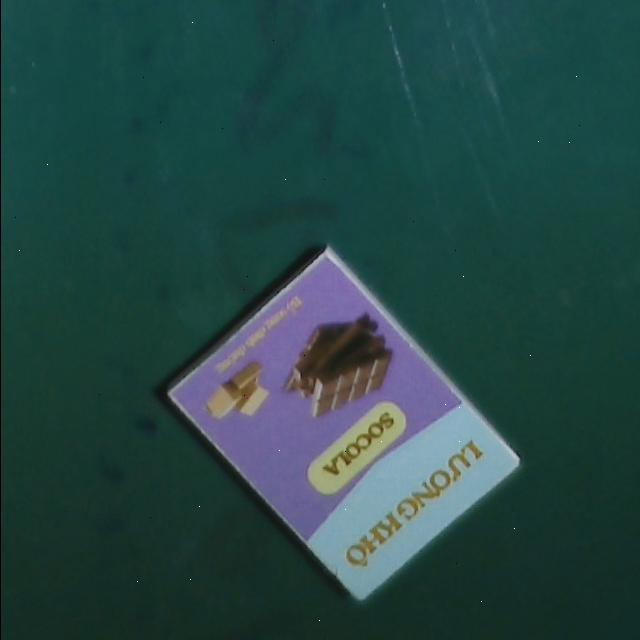socola: (160, 243, 522, 611)
